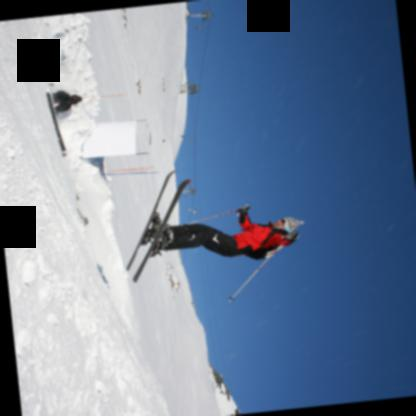backpack: (244, 230, 298, 260)
